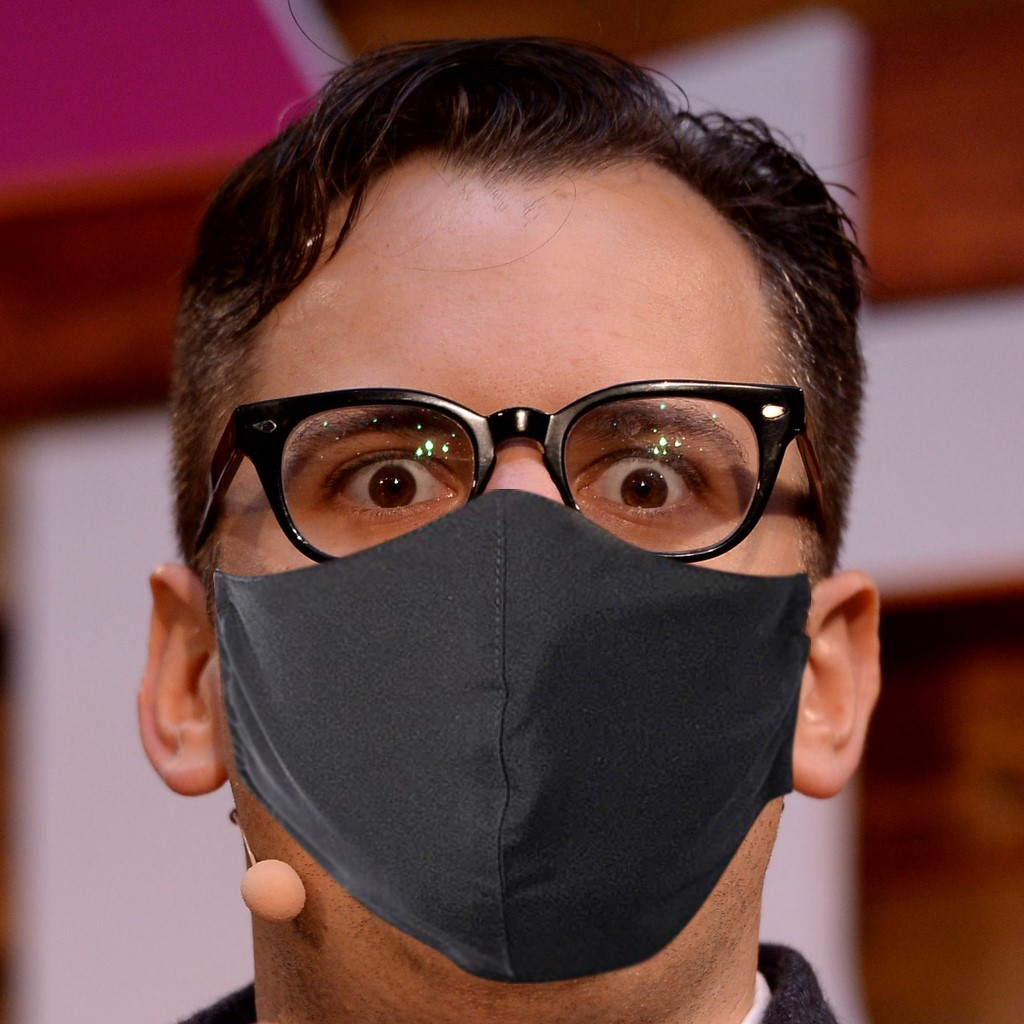con_mascara: (177, 135, 849, 957)
